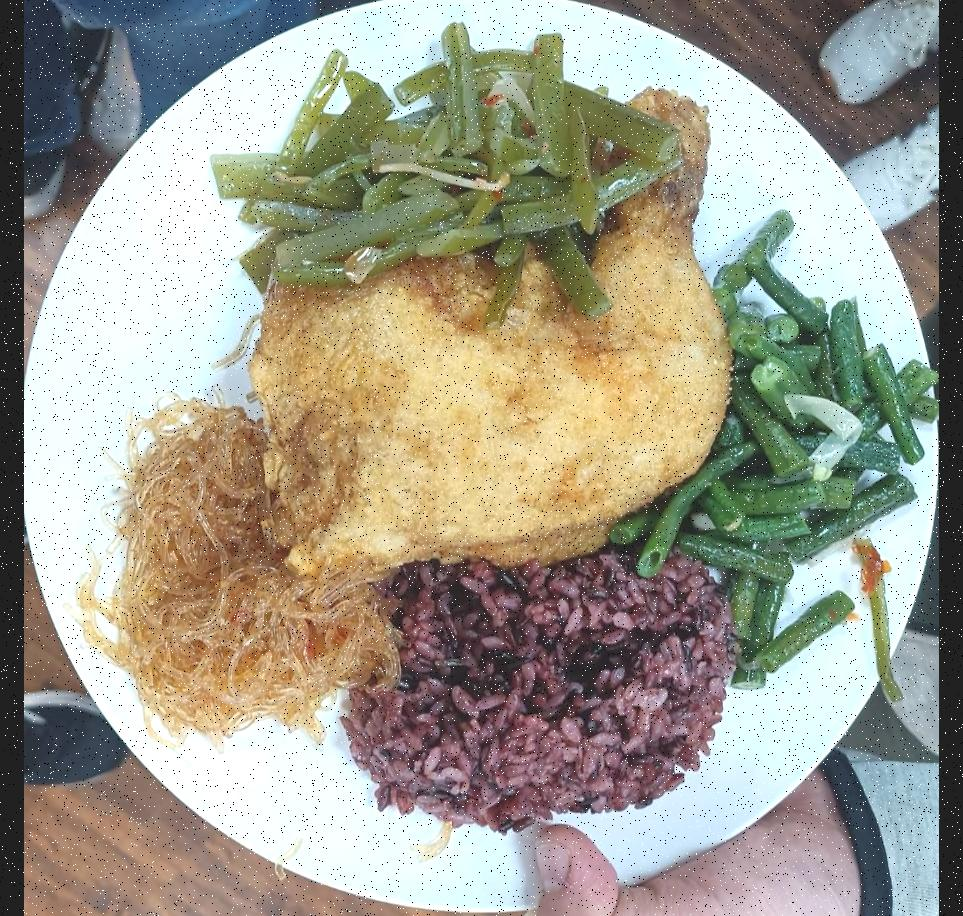big fried chicken leg: (23, 0, 939, 909)
braised fish: (358, 549, 745, 823)
braised fish fillet: (217, 29, 687, 324), (633, 262, 935, 680), (104, 404, 391, 757)
brown rice: (259, 97, 729, 572)
